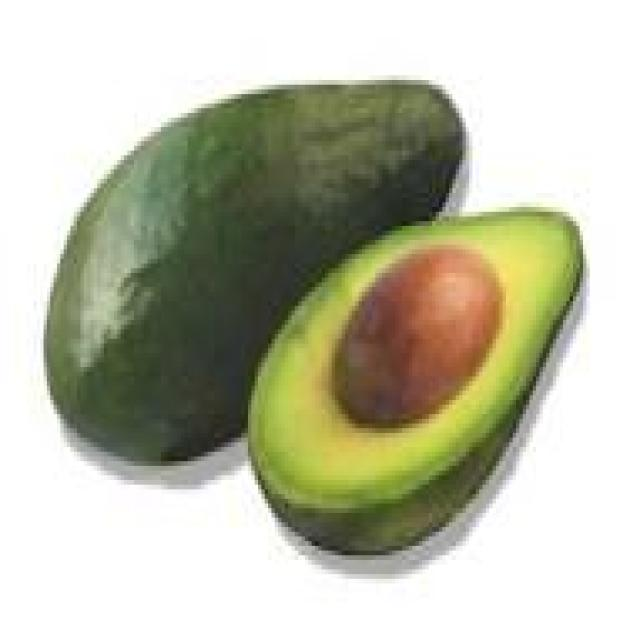avocado: (30, 57, 597, 550)
